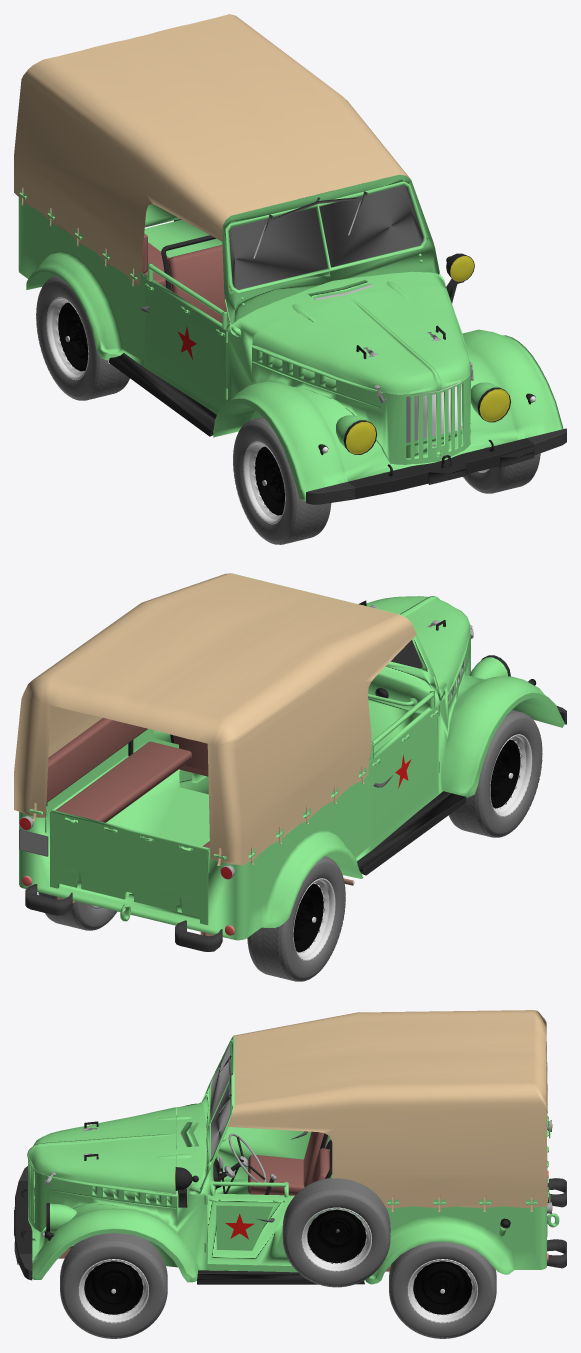
The model's file is GAZ 69.fbx.
3 views of the same model, one above another, from view 1: azimuth 30°, elevation 25°; view 2: azimuth 150°, elevation 25°; view 3: azimuth 270°, elevation 25° (orthographic). The views are drawn at different scales.
Visible parts, largest first — view 1: GAZ 69; view 2: GAZ 69; view 3: GAZ 69.
Part boxes in pixels (left/top/right/bottom): GAZ 69: left=14, top=14, right=566, bottom=544; GAZ 69: left=14, top=573, right=566, bottom=981; GAZ 69: left=14, top=1010, right=566, bottom=1338.
Bounding box in the file's own units: 554 × 550 × 1137.
